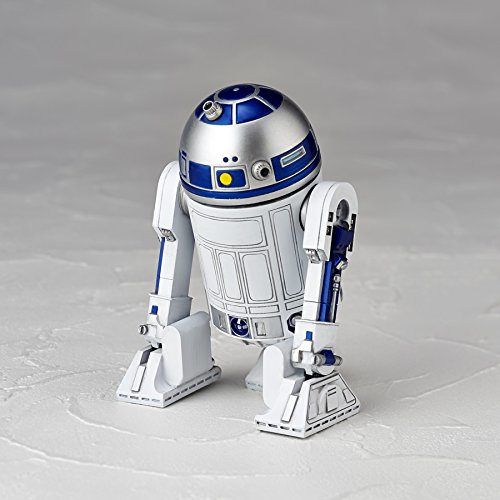r2d2: (116, 82, 362, 440)
